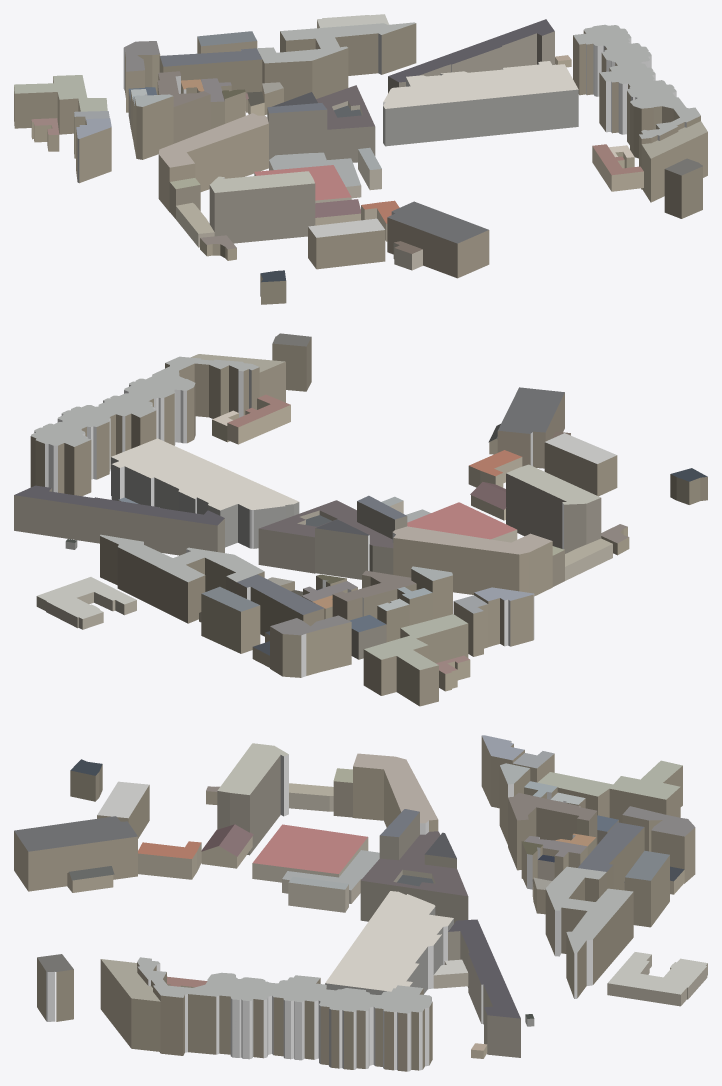
3 renders of one model, top to bottom at view 1: azimuth 30°, elevation 25°; view 2: azimuth 150°, elevation 25°; view 3: azimuth 270°, elevation 25°, orthographic. The views are drawn at different scales.
Visible parts, largest first — view 1: tuile; view 2: tuile; view 3: tuile.
Boxes of the visible parts, bbox=[...] form: tuile: bbox=[14, 14, 707, 304]; tuile: bbox=[14, 333, 707, 706]; tuile: bbox=[14, 735, 707, 1071].
Size of the model in its own units: 266 by 30.9 by 271.
